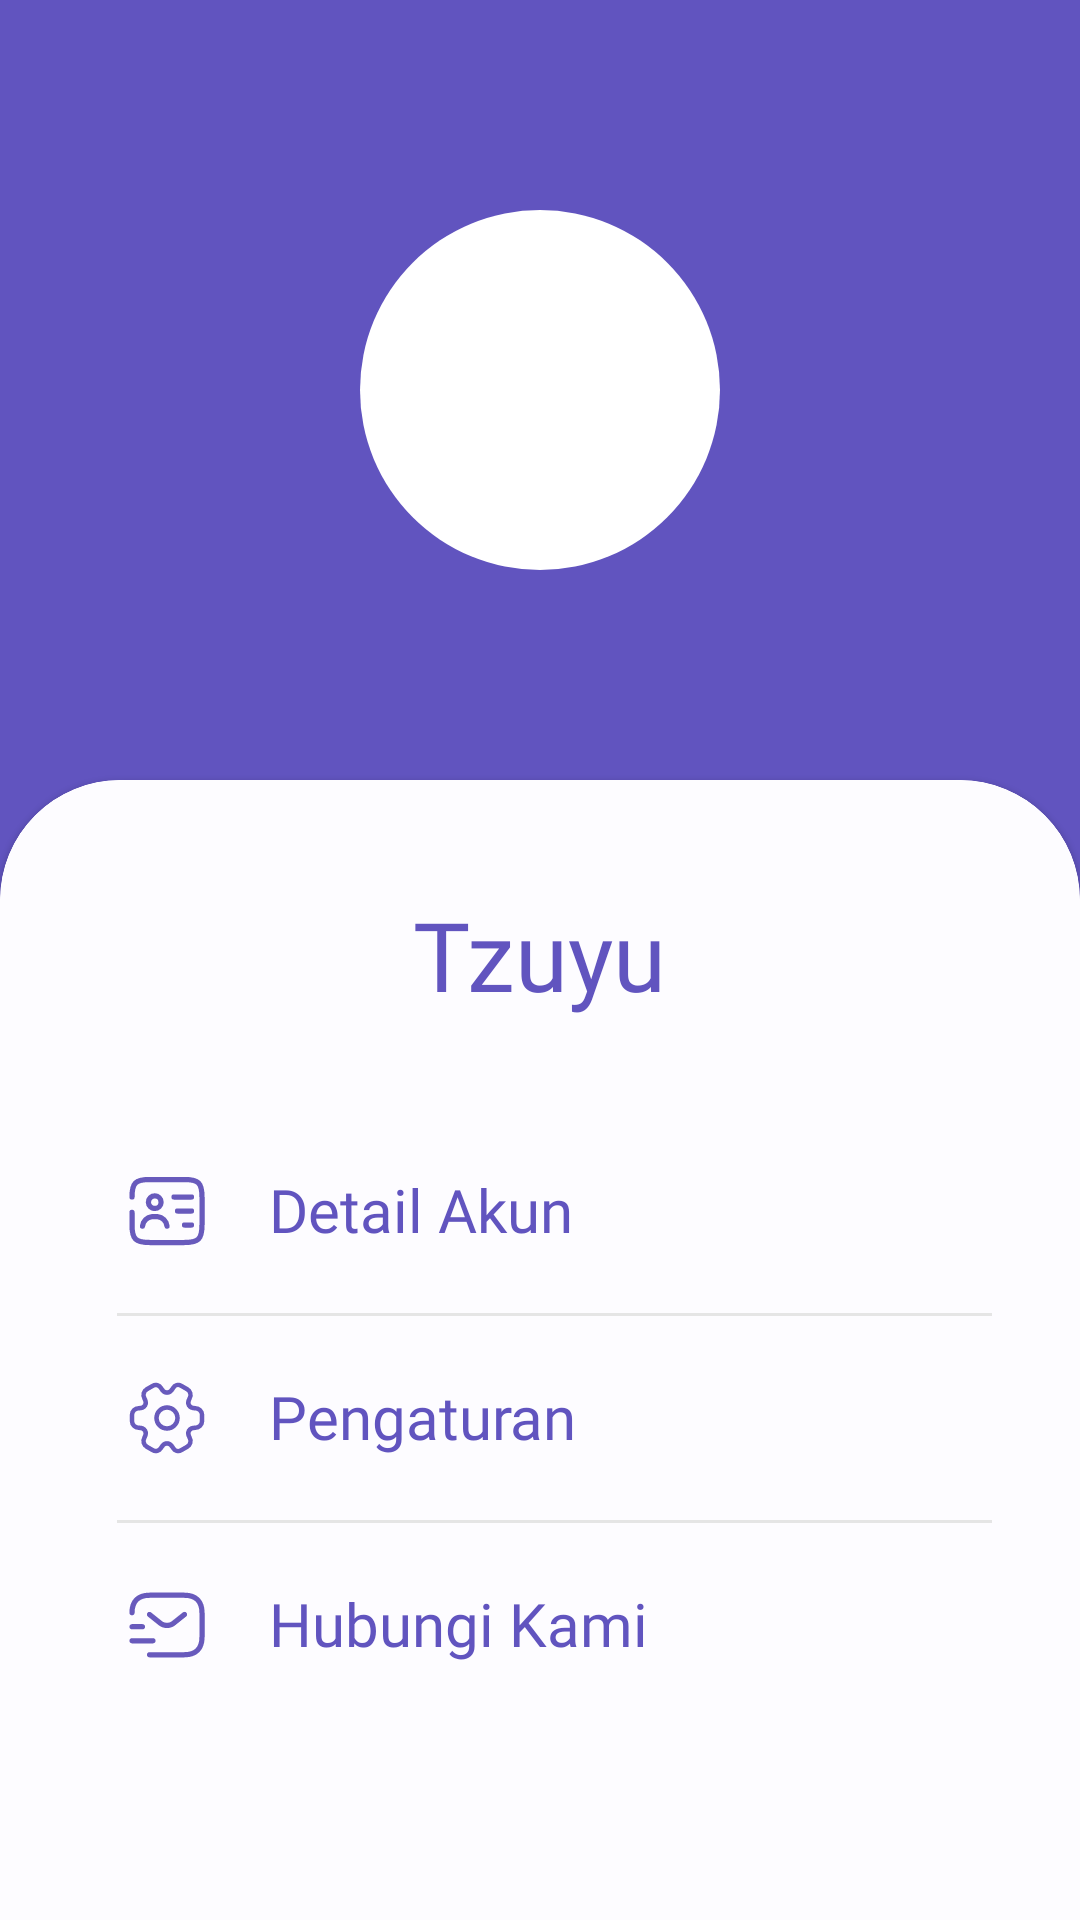

Icon click points for this 1080px×1920px phone screenshot, format (x,y):
message: (167,1625)
person: (167,1211)
setting: (167,1418)
